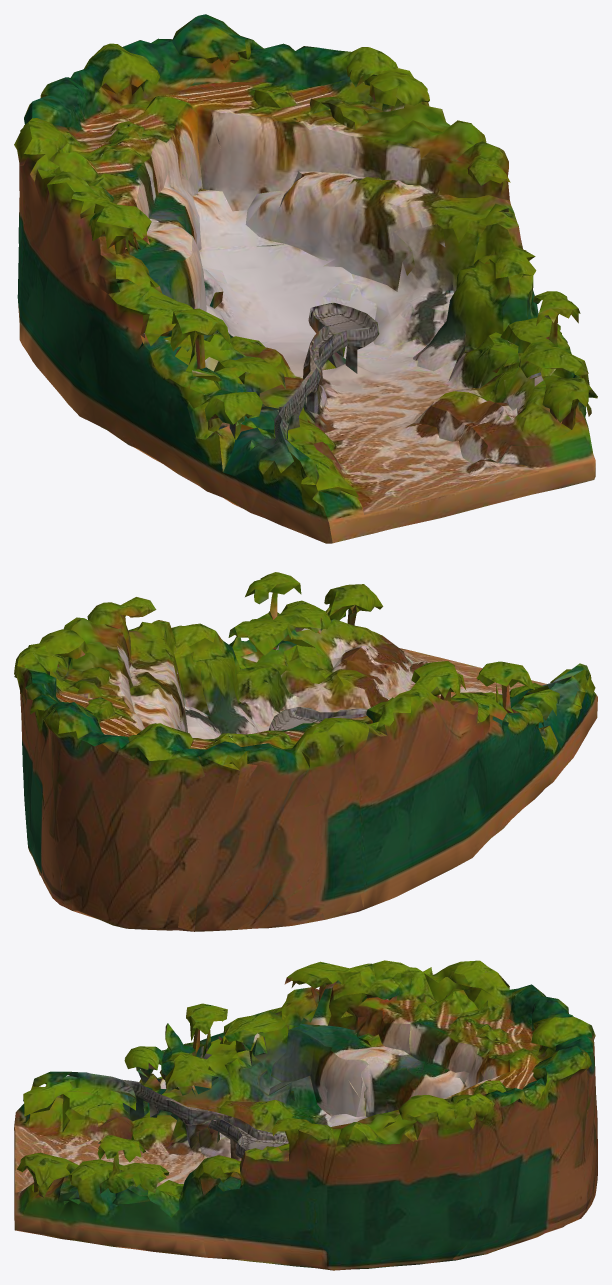
The model's file is iguazu-falls.glb.
The picture shows the model from 3 angles, top to bottom: view 1: azimuth 30°, elevation 25°; view 2: azimuth 150°, elevation 25°; view 3: azimuth 270°, elevation 25°; orthographic projection. The views are drawn at different scales.
Visible parts, largest first — view 1: logan-textured.obj; view 2: logan-textured.obj; view 3: logan-textured.obj.
Boxes of the visible parts, x1=… form: logan-textured.obj: x1=14, y1=14, x2=597, y2=543; logan-textured.obj: x1=14, y1=572, x2=597, y2=931; logan-textured.obj: x1=14, y1=960, x2=597, y2=1270.
Bounding box in the file's own units: 0.6642 × 0.3221 × 1.
1 material, 1 textured.
